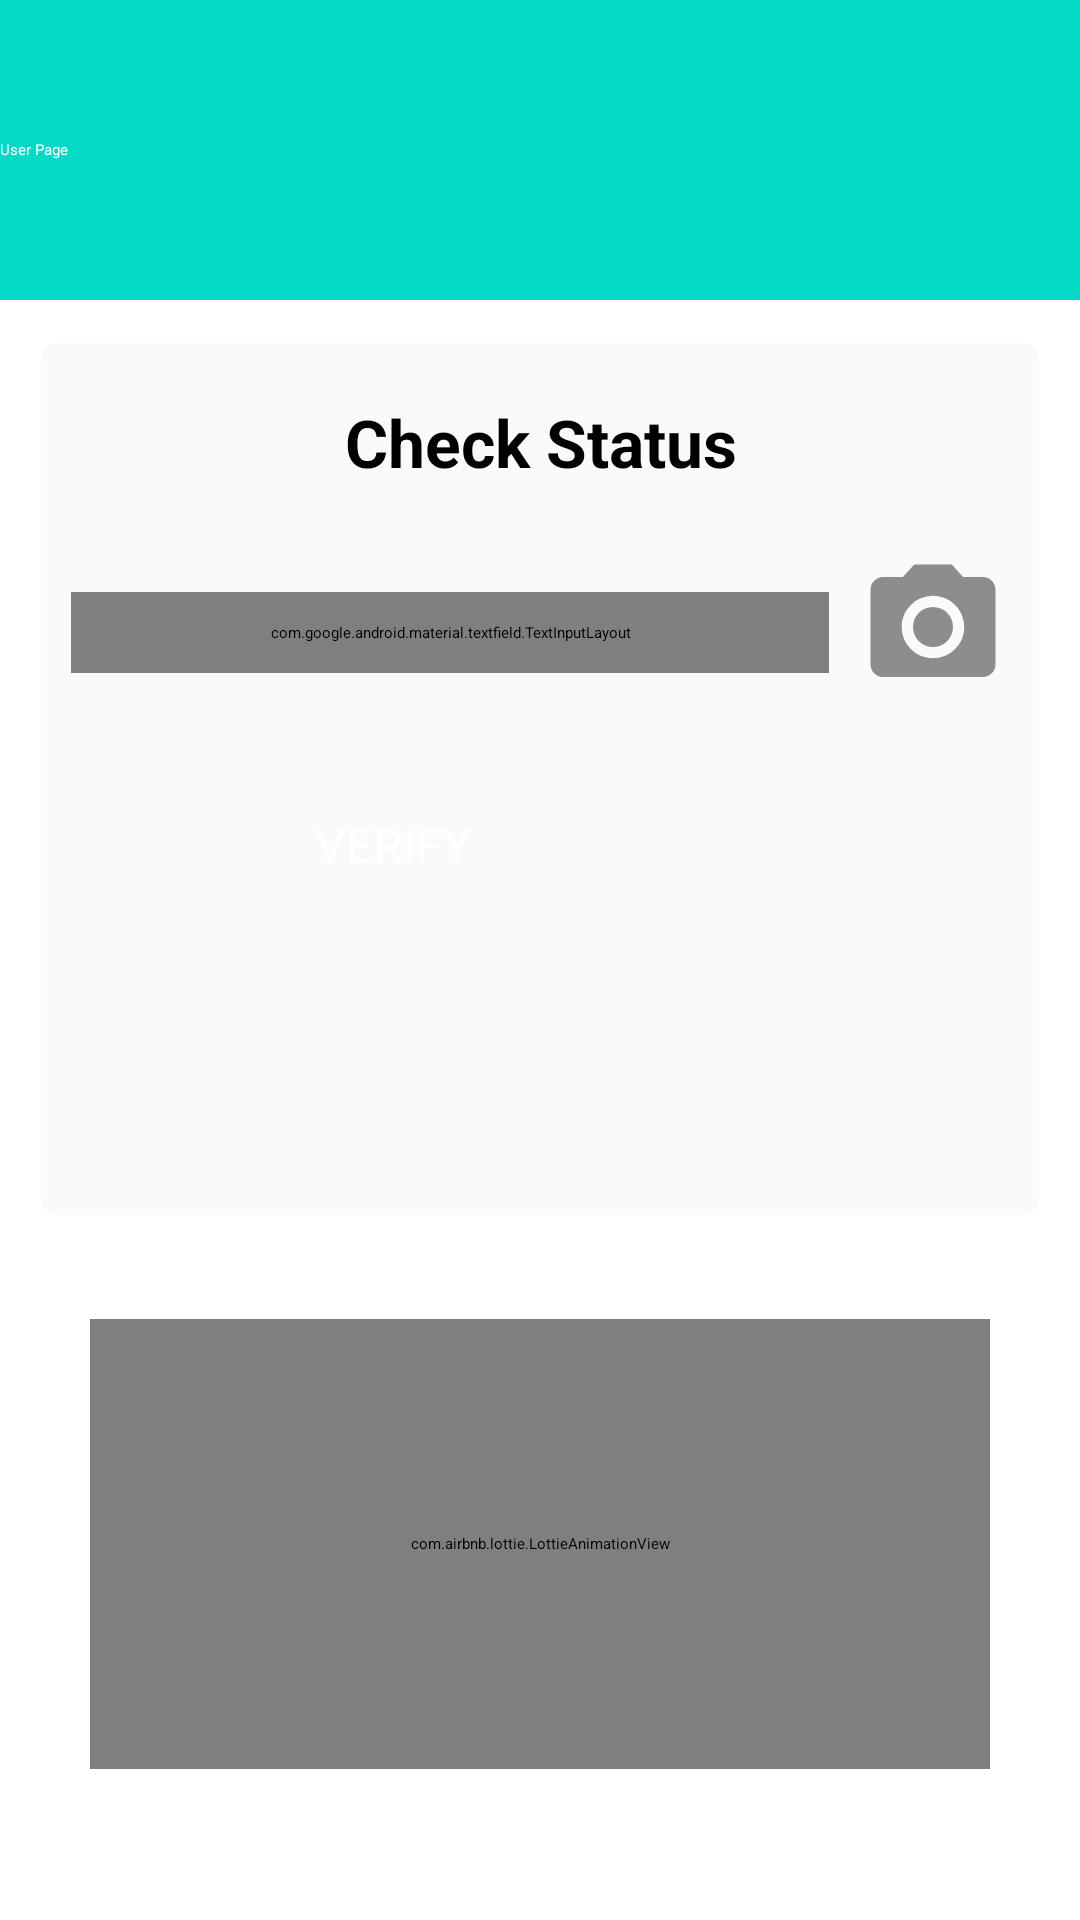

Named icons in this screenshot (1080x1920) and their centers, [x,y]:
camera: [933,620]
